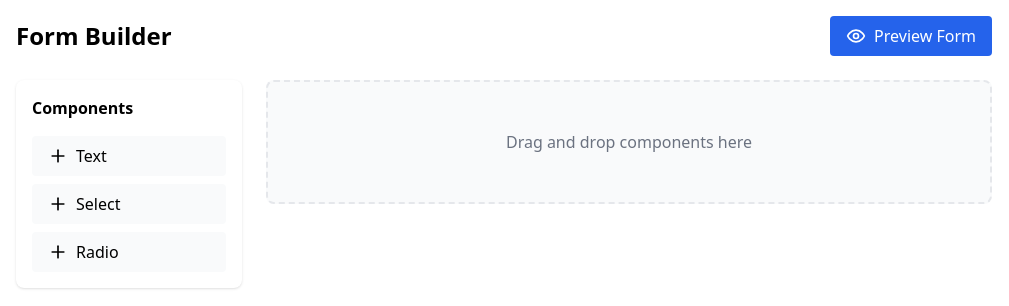
Scenario: FormBuilder › adds new components when clicked
Click the button "Text" at (129, 156), box top-left (32, 136), bottom-right (226, 176)
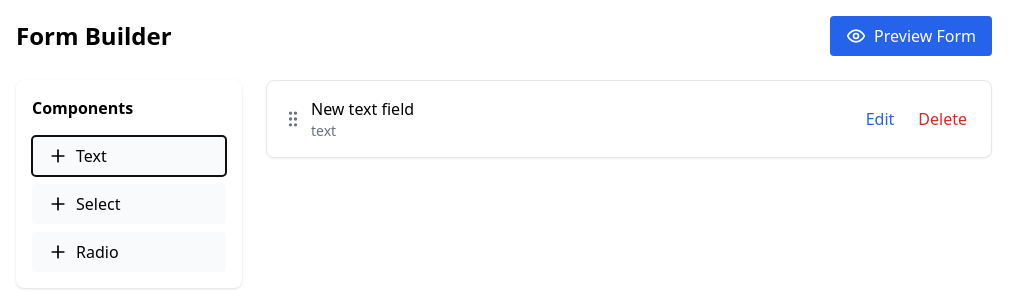
Now the heading "New text field" is shown, box top-left (311, 98), bottom-right (414, 120)
